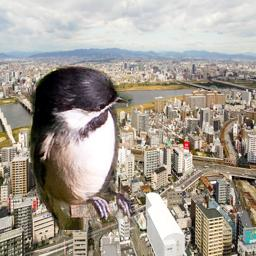Swallow: (26, 61, 139, 230)
